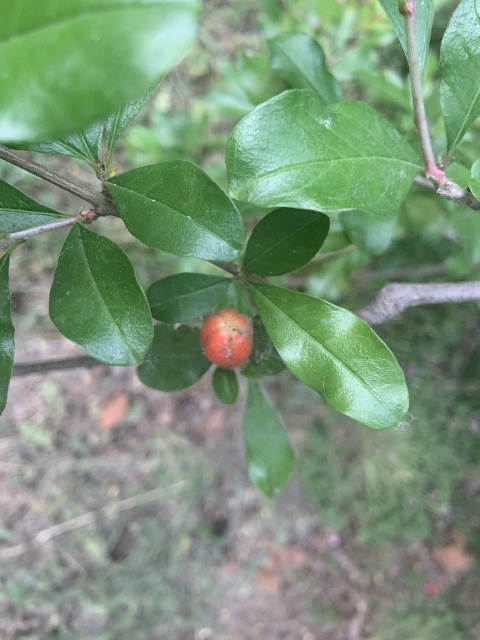bud: (199, 308, 253, 369)
